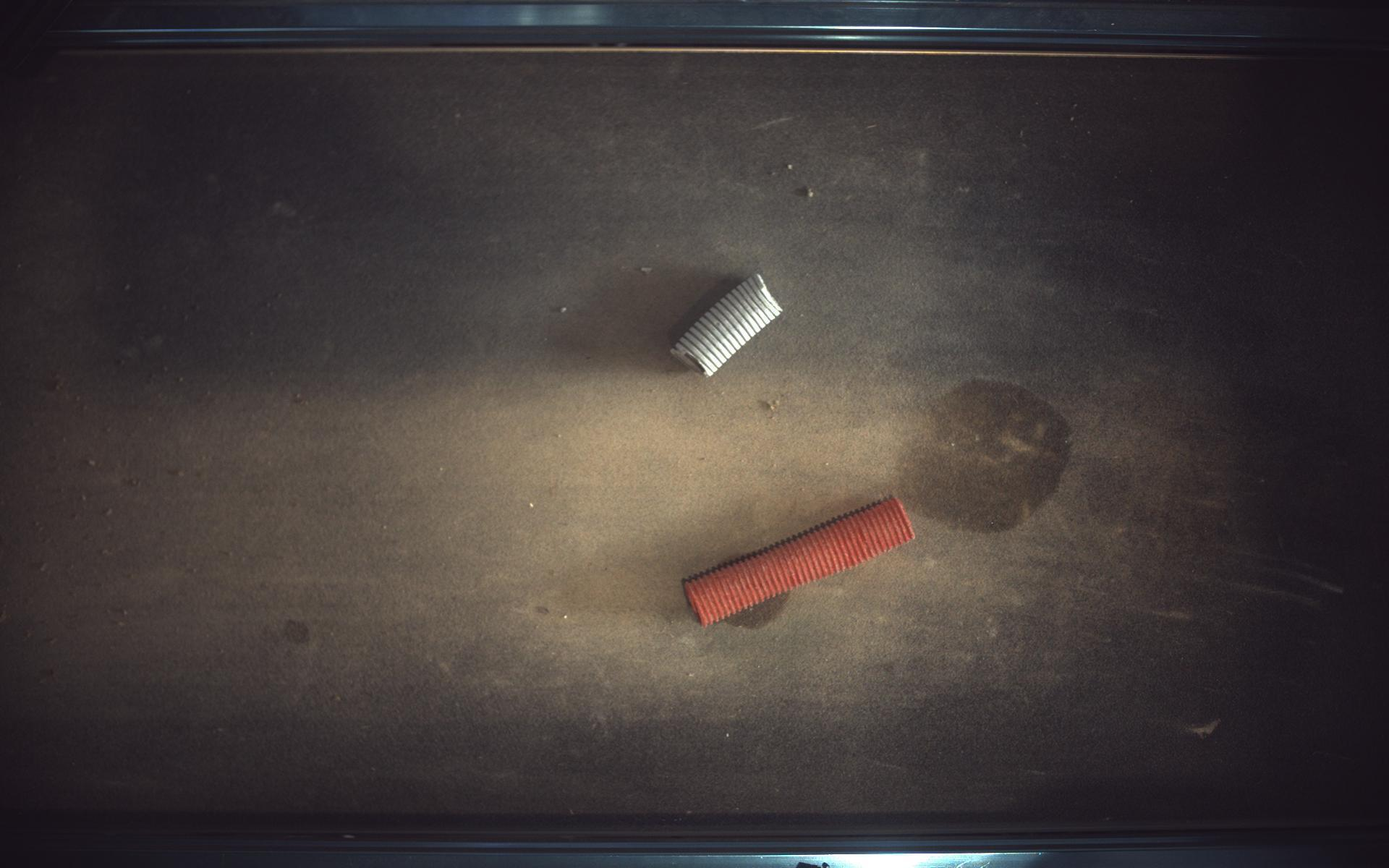pipes: (684, 498, 917, 626), (671, 273, 783, 376)
